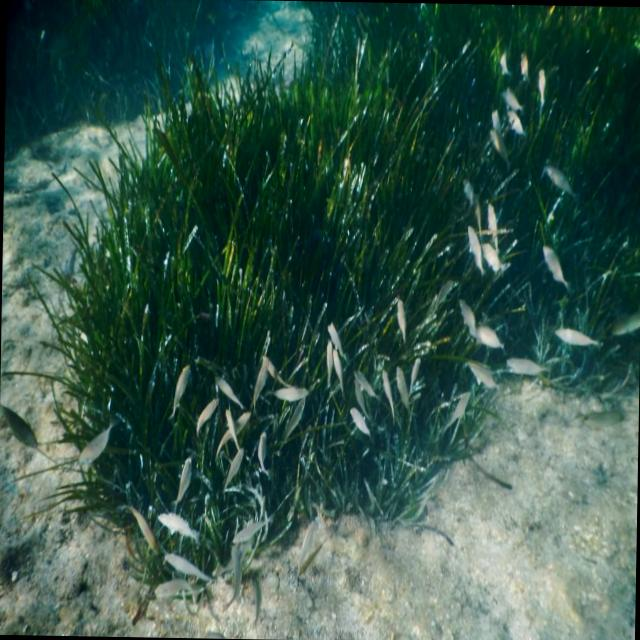Sokar Baligi: (67, 412, 125, 476), (160, 538, 216, 592), (550, 318, 605, 358)
